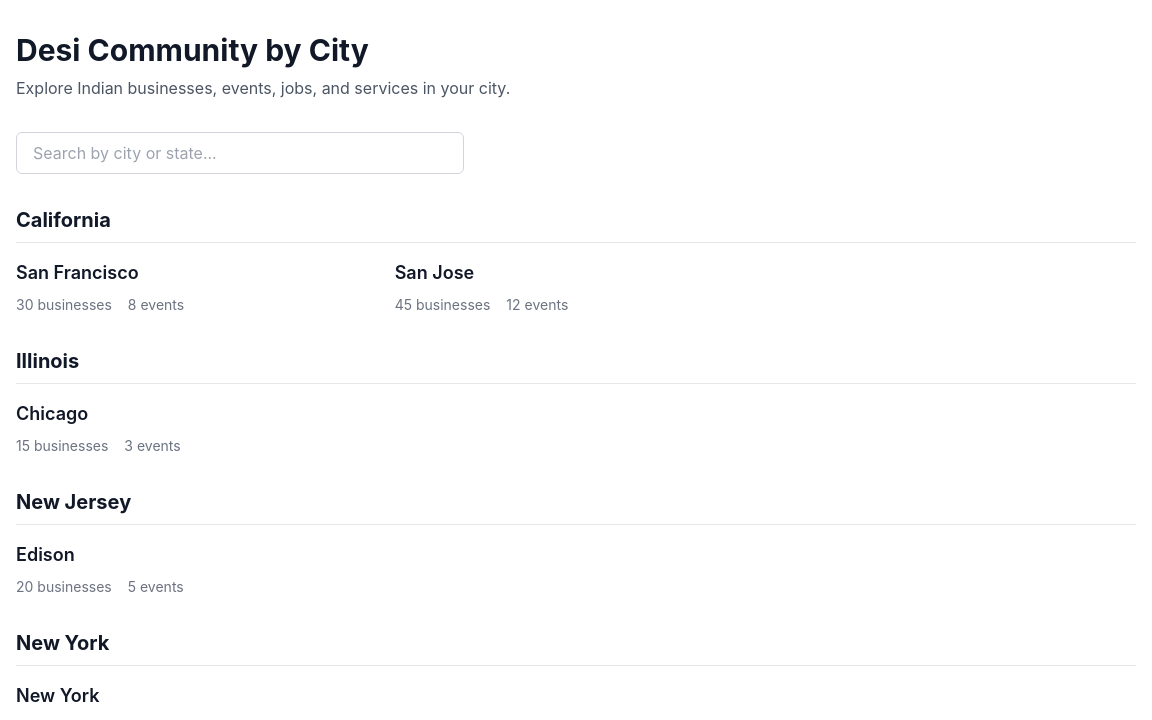
Test: CitiesPage › Search Filter › should filter by state name when searching for "California"
Expected: the heading "San Jose" is shown, [395,262,474,283]
Step 1. Type "California" into the field named "Search cities" → (240,153), box [16,132,464,174]
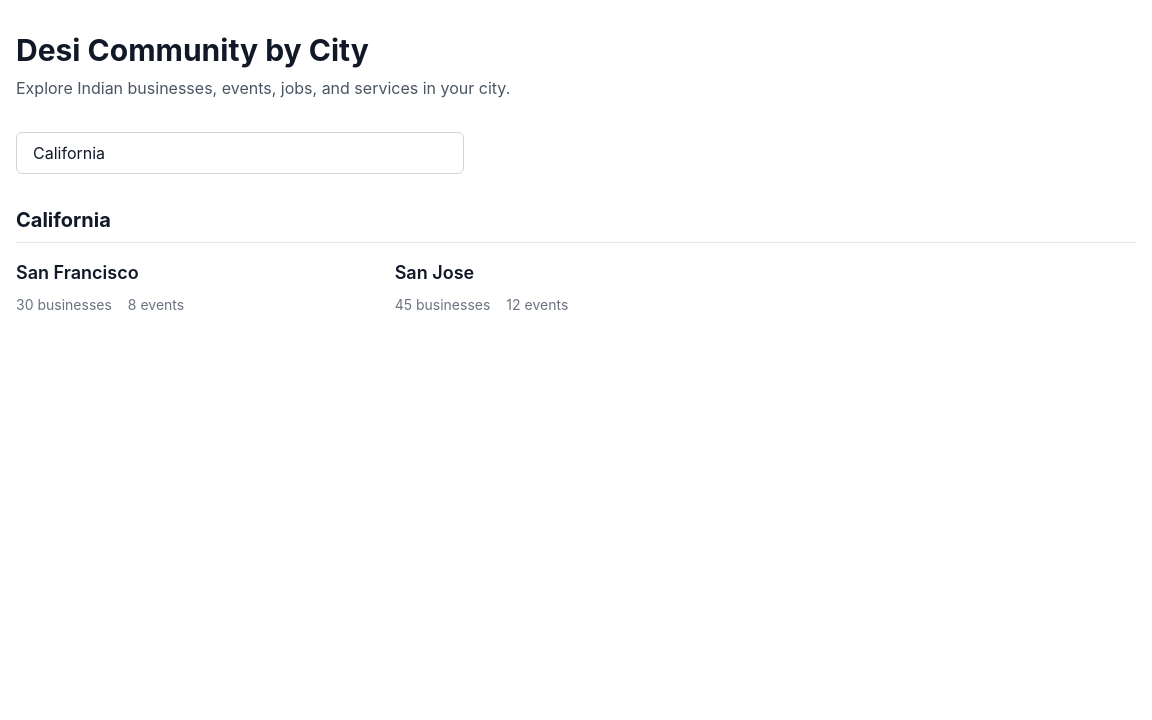
Expected: the heading "California" is shown, [16,206,1136,243]
Expected: the heading "Illinois" is gone
Expected: the link "Chicago" is gone
